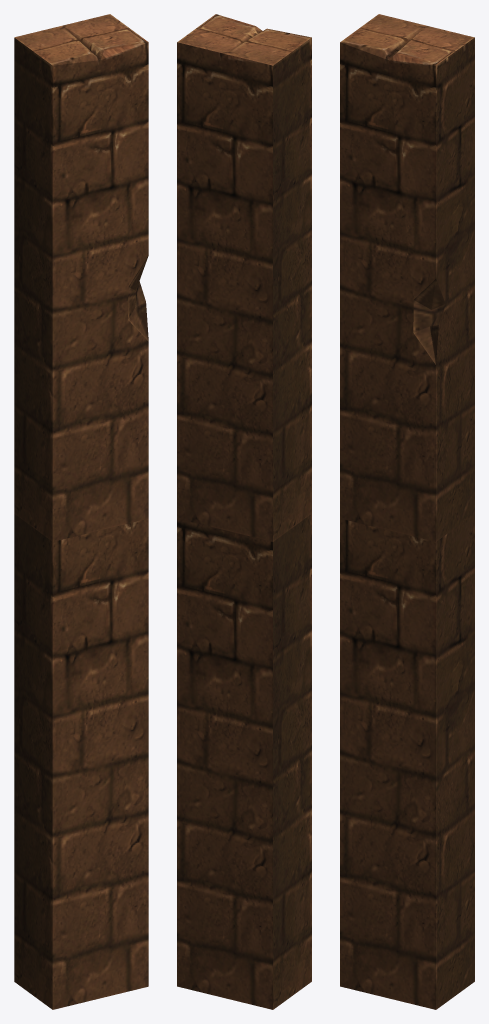
File: Qiang02.FBX
3 views of the same model, side by side, from view 1: azimuth 30°, elevation 25°; view 2: azimuth 150°, elevation 25°; view 3: azimuth 330°, elevation 25° (orthographic).
Visible parts, largest first — view 1: Qiang02; view 2: Qiang02; view 3: Qiang02.
Boxes of the visible parts, left/top/right/bottom form: Qiang02: left=14, top=14, right=148, bottom=1009; Qiang02: left=177, top=14, right=311, bottom=1009; Qiang02: left=340, top=14, right=474, bottom=1009.
Size of the model in its own units: 126 by 1183 by 90.43.
